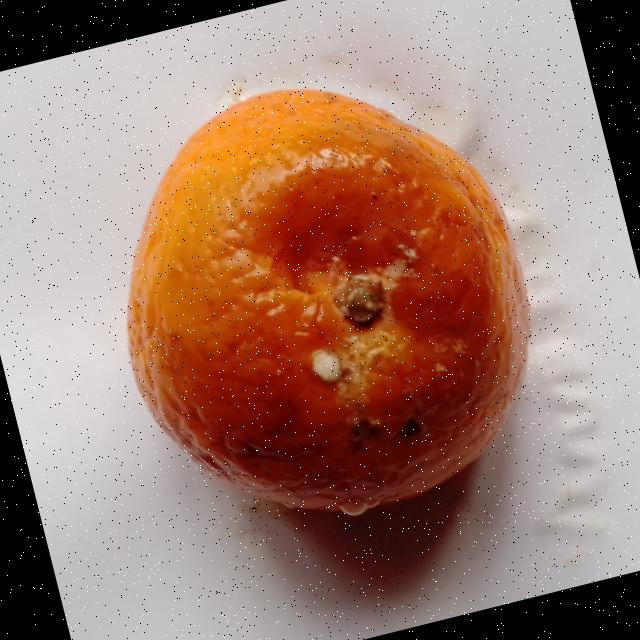Rotten: (74, 41, 574, 564)
